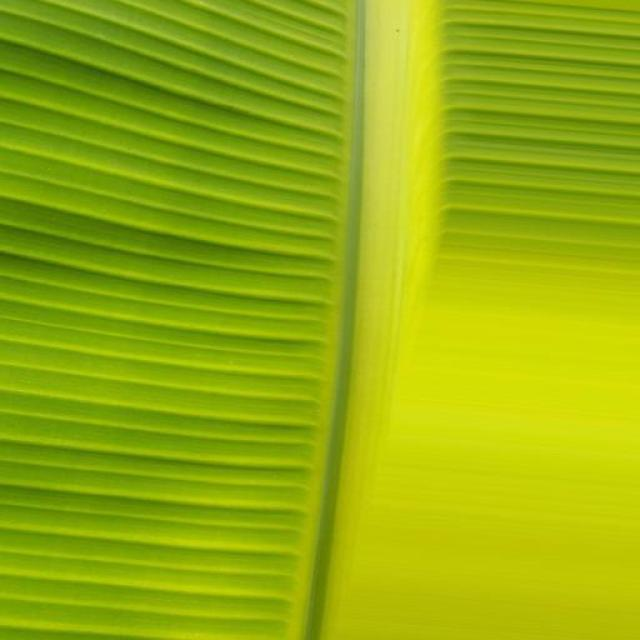Black_leaf_spot: (8, 0, 606, 587)
